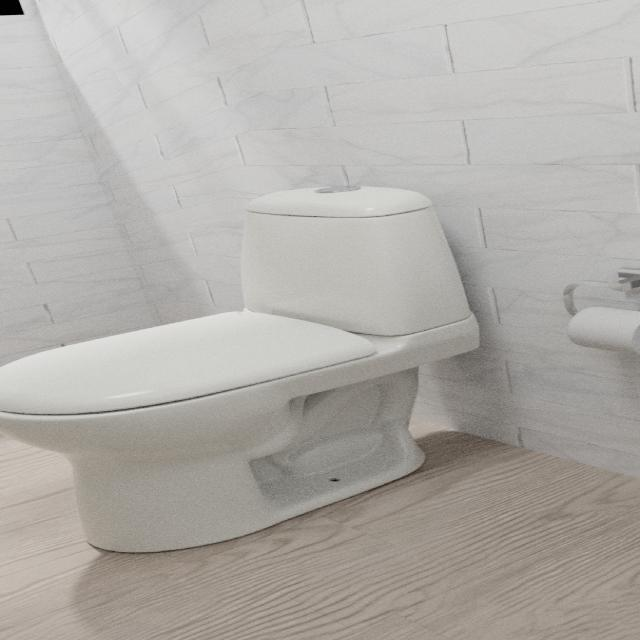toilet: (0, 184, 482, 552)
